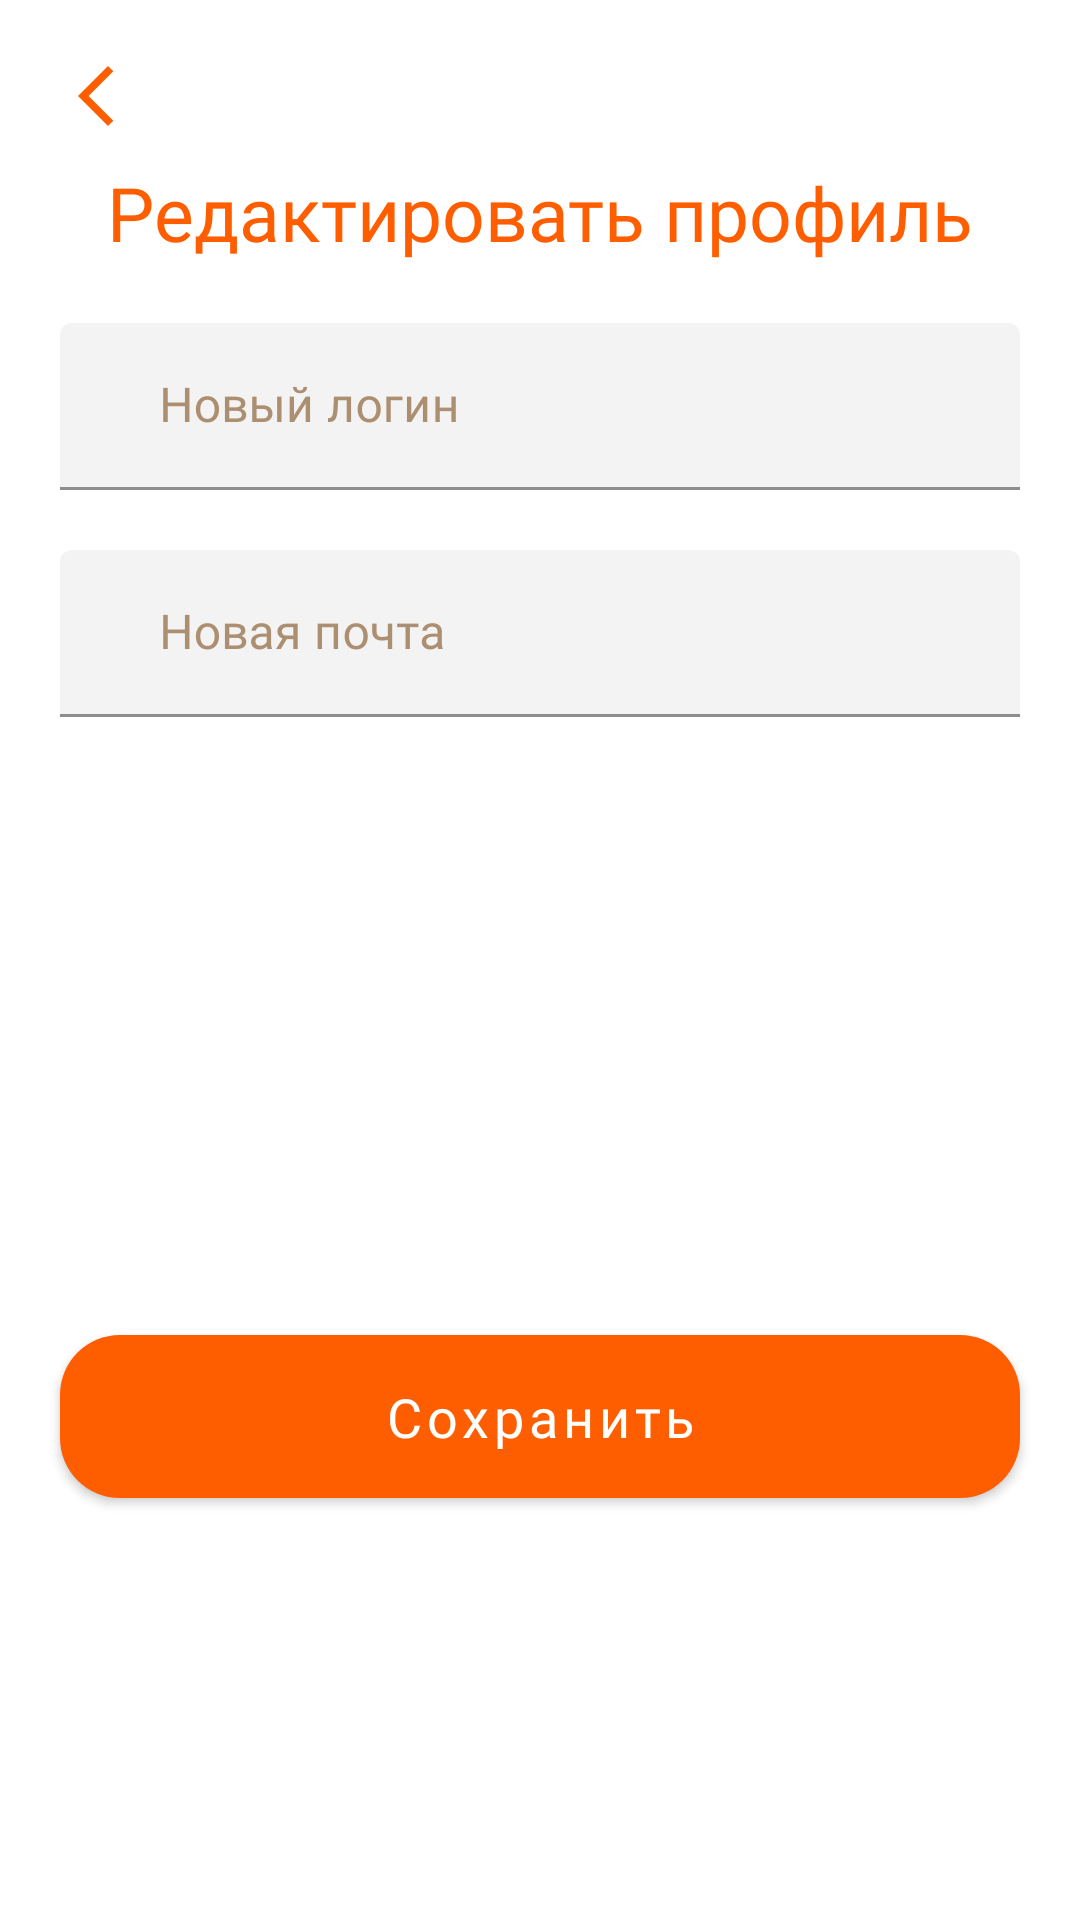

Icons on this 1080x1920 Android screen, each with the point to tap as (x,y):
back: (95,96)
